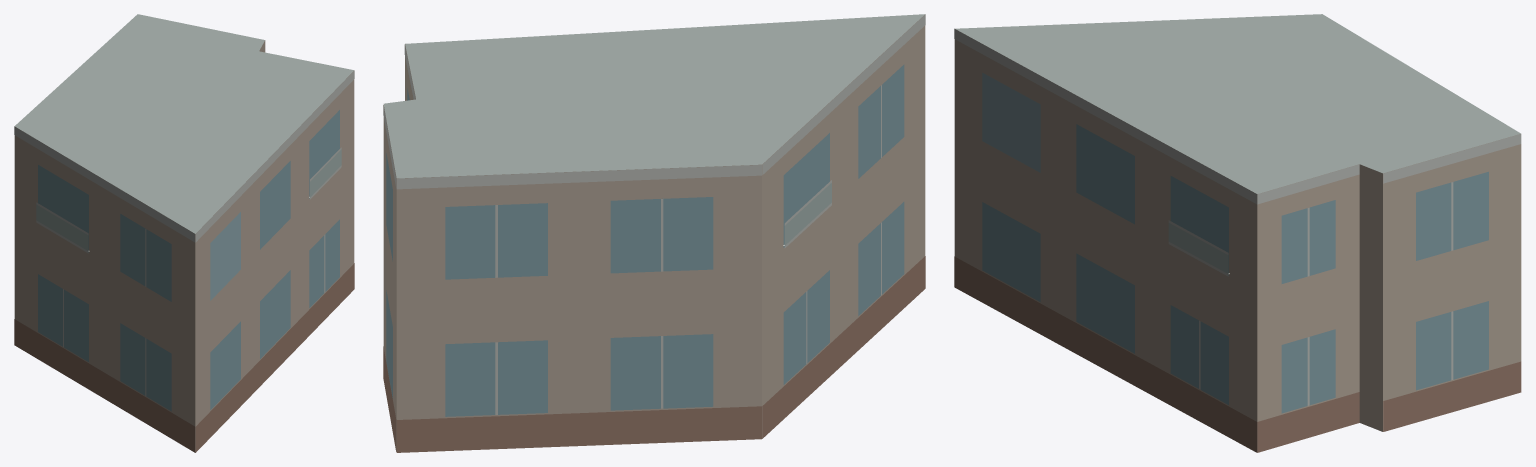
Rendered from survey-upis-32728820.glb.
3 views of the same model, side by side, from view 1: azimuth 30°, elevation 25°; view 2: azimuth 150°, elevation 25°; view 3: azimuth 270°, elevation 25° (orthographic). The views are drawn at different scales.
Parts seen in each view (by area): view 1: survey-upis-32728820.tmp; view 2: survey-upis-32728820.tmp; view 3: survey-upis-32728820.tmp.
Boxes of the visible parts, box(x1,y1,x2,y2) form: survey-upis-32728820.tmp: box(14, 14, 354, 452); survey-upis-32728820.tmp: box(383, 14, 925, 452); survey-upis-32728820.tmp: box(954, 14, 1521, 452).
Size of the model in its own units: 9.12 by 6.1 by 12.12.
